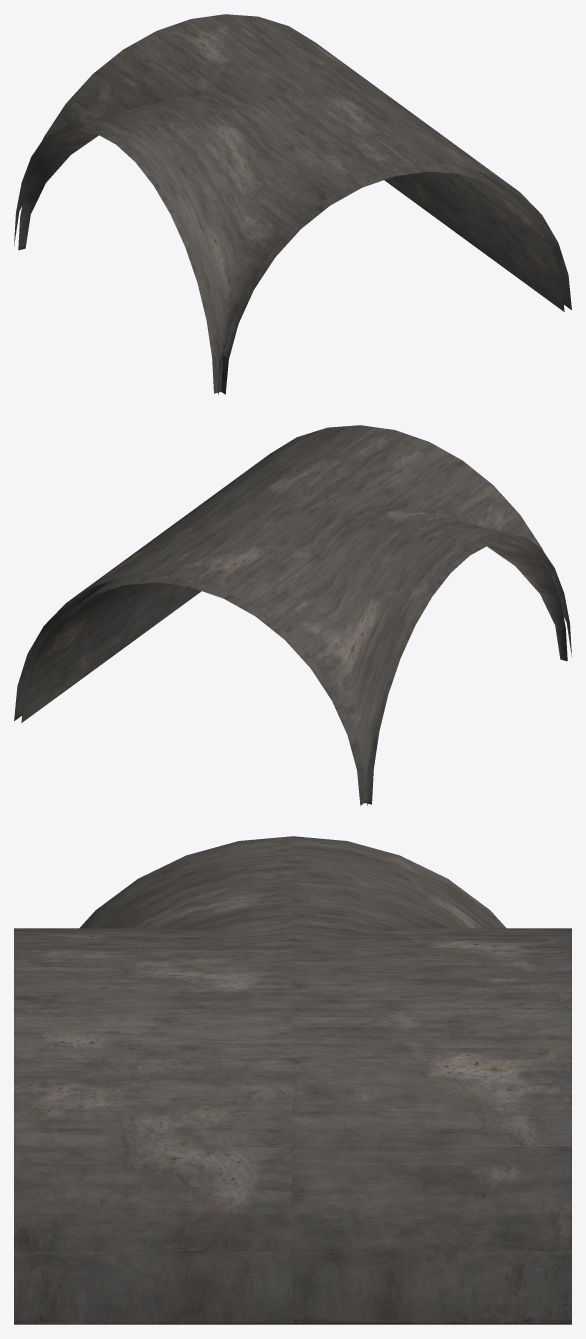
File: msp_tunnel_ceiling_t.fbx
The picture shows the model from 3 angles, top to bottom: view 1: azimuth 30°, elevation 25°; view 2: azimuth 150°, elevation 25°; view 3: azimuth 270°, elevation 25°; orthographic projection. The views are drawn at different scales.
Parts seen in each view (by area): view 1: msp_tunnel_ceiling_t; view 2: msp_tunnel_ceiling_t; view 3: msp_tunnel_ceiling_t.
Boxes of the visible parts, box(x1,y1,x2,y2) form: msp_tunnel_ceiling_t: box(14, 14, 571, 394); msp_tunnel_ceiling_t: box(14, 425, 571, 805); msp_tunnel_ceiling_t: box(14, 836, 571, 1324).
Bounding box in the file's own units: 8 × 4 × 8.
